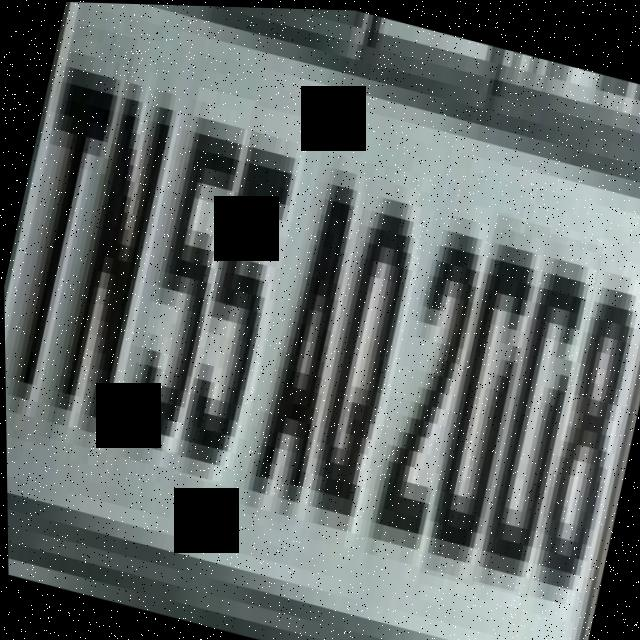0: (414, 209, 554, 585), (466, 227, 606, 596)
5: (168, 101, 318, 489), (117, 83, 259, 454)
8: (518, 221, 640, 607)
A: (238, 147, 379, 526)
N: (40, 59, 188, 453)
Q: (293, 161, 438, 542)
T: (0, 20, 141, 448)
